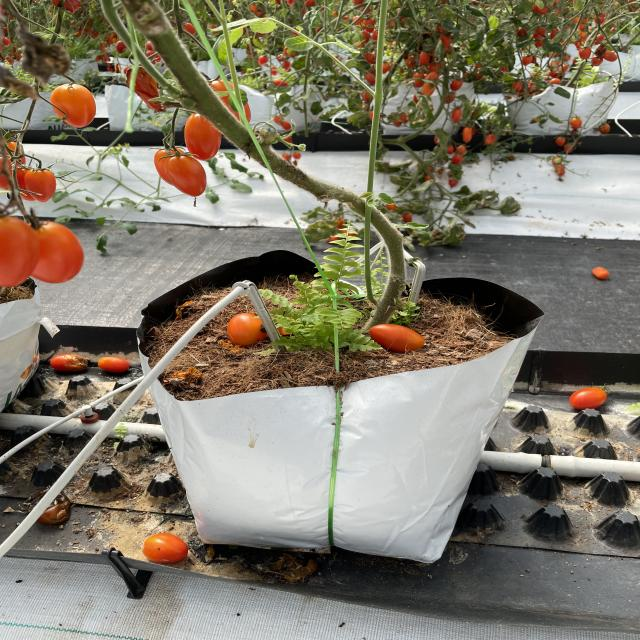Obstacle: (35, 290, 249, 514)
Soilbag: (149, 281, 540, 568)
Tomato: (0, 151, 86, 304), (152, 120, 213, 200), (225, 299, 273, 350), (45, 84, 96, 129), (368, 324, 425, 354)
plant: (118, 13, 528, 336)
